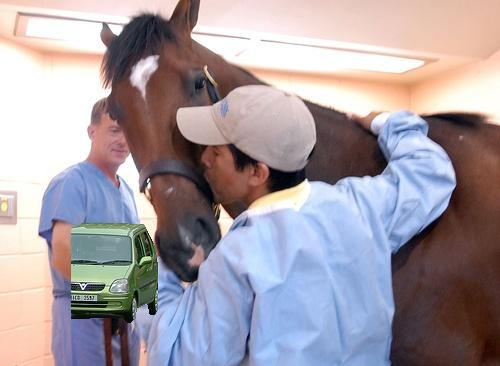tampered: (72, 224, 158, 323)
